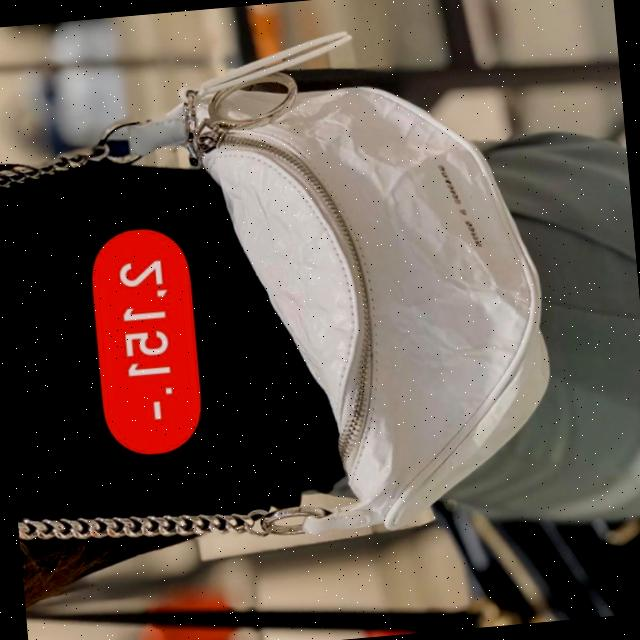handbag: (141, 39, 569, 544)
